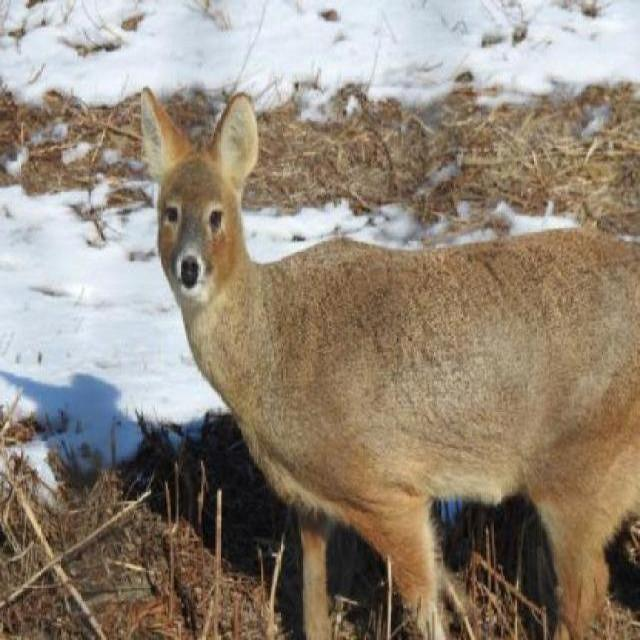deer: (133, 74, 639, 640)
